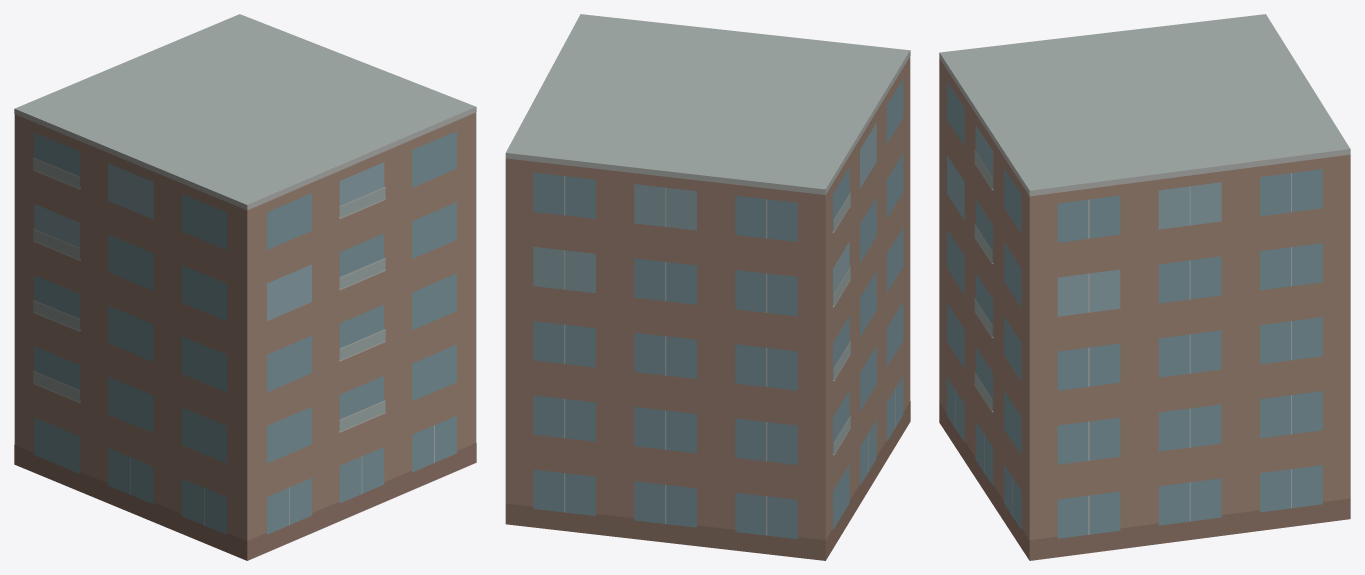
Rendered from survey-upis-32649285.glb.
The picture shows the model from 3 angles, left to right: view 1: azimuth 30°, elevation 25°; view 2: azimuth 150°, elevation 25°; view 3: azimuth 270°, elevation 25°; orthographic projection. The views are drawn at different scales.
Visible parts, largest first — view 1: survey-upis-32649285.tmp; view 2: survey-upis-32649285.tmp; view 3: survey-upis-32649285.tmp.
Boxes of the visible parts, x1,y1,x2,y2 form: survey-upis-32649285.tmp: [14, 14, 476, 560]; survey-upis-32649285.tmp: [505, 14, 910, 560]; survey-upis-32649285.tmp: [939, 14, 1350, 560].
Size of the model in its own units: 16.61 by 16.2 by 16.32.
